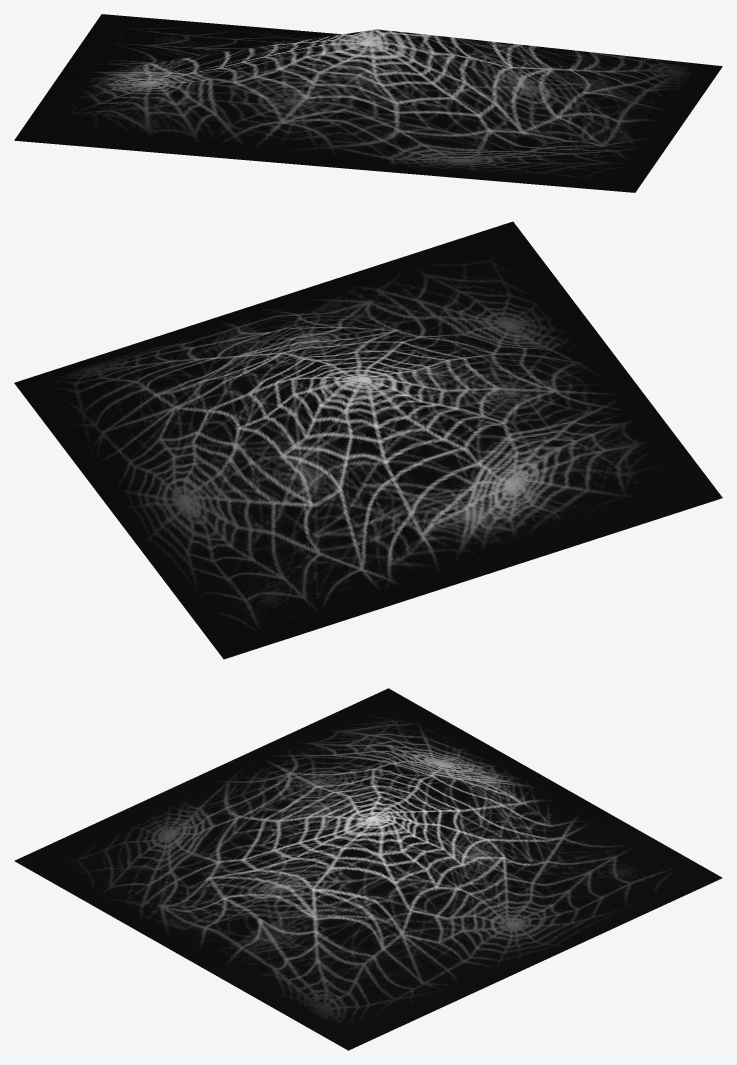
File: MIRKWOOD_PLANE46.fbx
The picture shows the model from 3 angles, top to bottom: view 1: azimuth 30°, elevation 25°; view 2: azimuth 150°, elevation 25°; view 3: azimuth 270°, elevation 25°; orthographic projection. The views are drawn at different scales.
Visible parts, largest first — view 1: MIRKWOOD_PLANE46; view 2: MIRKWOOD_PLANE46; view 3: MIRKWOOD_PLANE46.
Boxes of the visible parts, x1,y1,x2,y2 form: MIRKWOOD_PLANE46: (14,14,722,192); MIRKWOOD_PLANE46: (14,221,722,659); MIRKWOOD_PLANE46: (14,688,722,1050).
Bounding box in the file's own units: 145321 × 20651 × 147514.
1 material, 1 textured.
